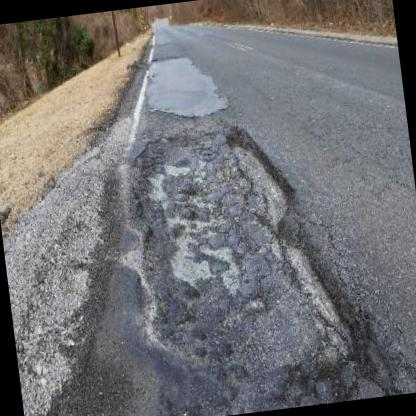pothole: (117, 107, 376, 415)
